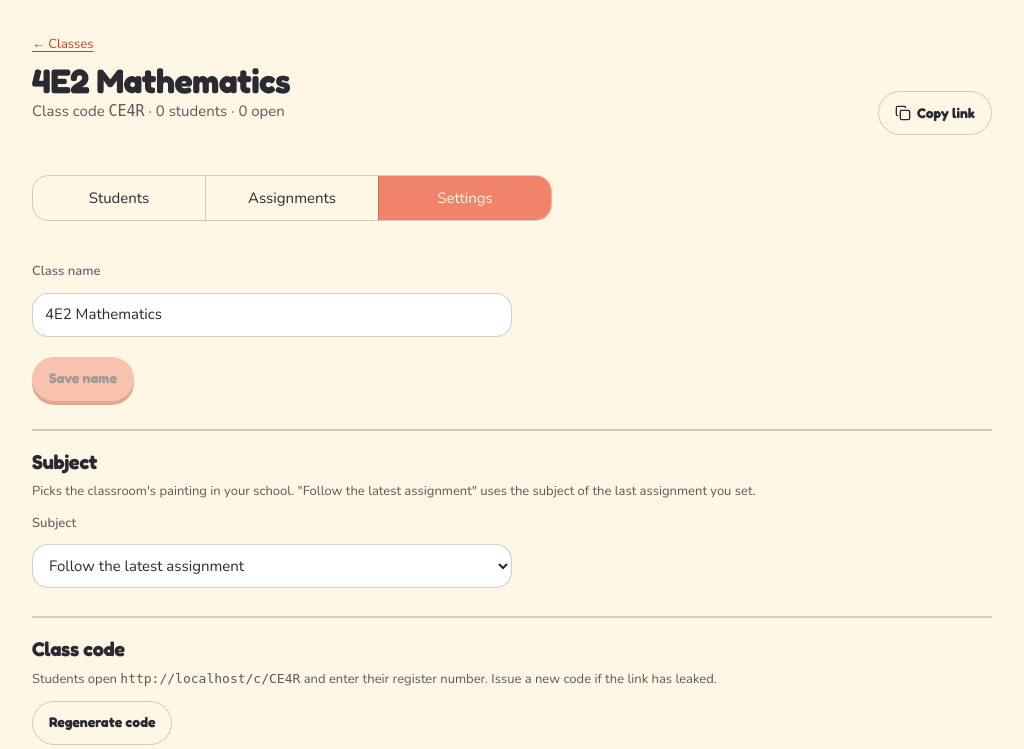
Test: ClassPage › lets the teacher set the class subject under Settings
Select "Science" in the dropdown labelled "Subject": (272, 566) [32,544,512,588]
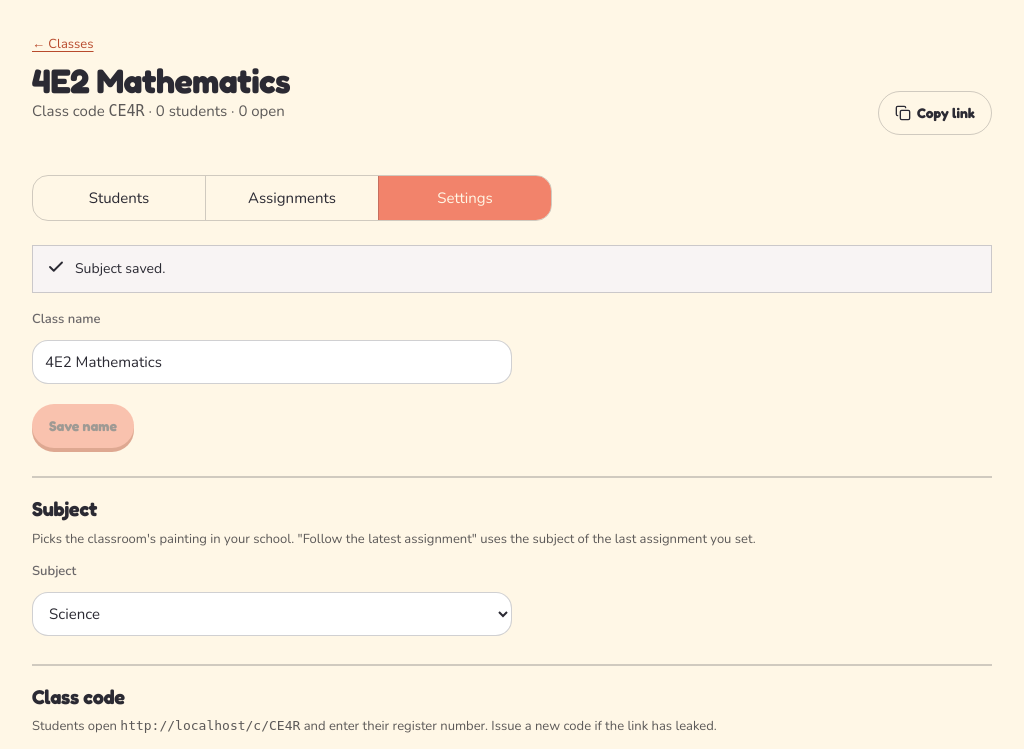
Expected: the text "Subject saved." is shown, [75,258,165,280]
